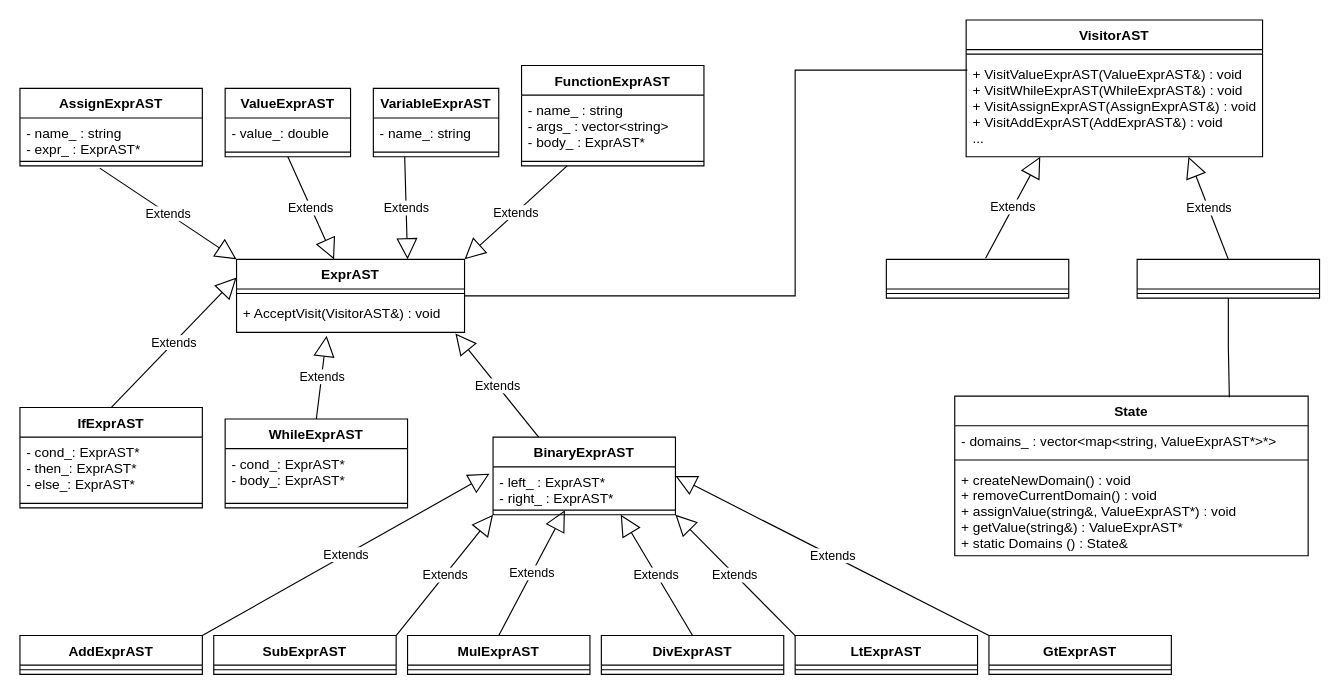
Some shapes in this 1340 by 694 pixel diagram are drawn without their labels. The shapes that lost their labels are listed below. From the top down, each one's centre as x and y in pixels, then its label:
At point (977, 278): "Compile".
At point (1228, 278): "Interpret".
